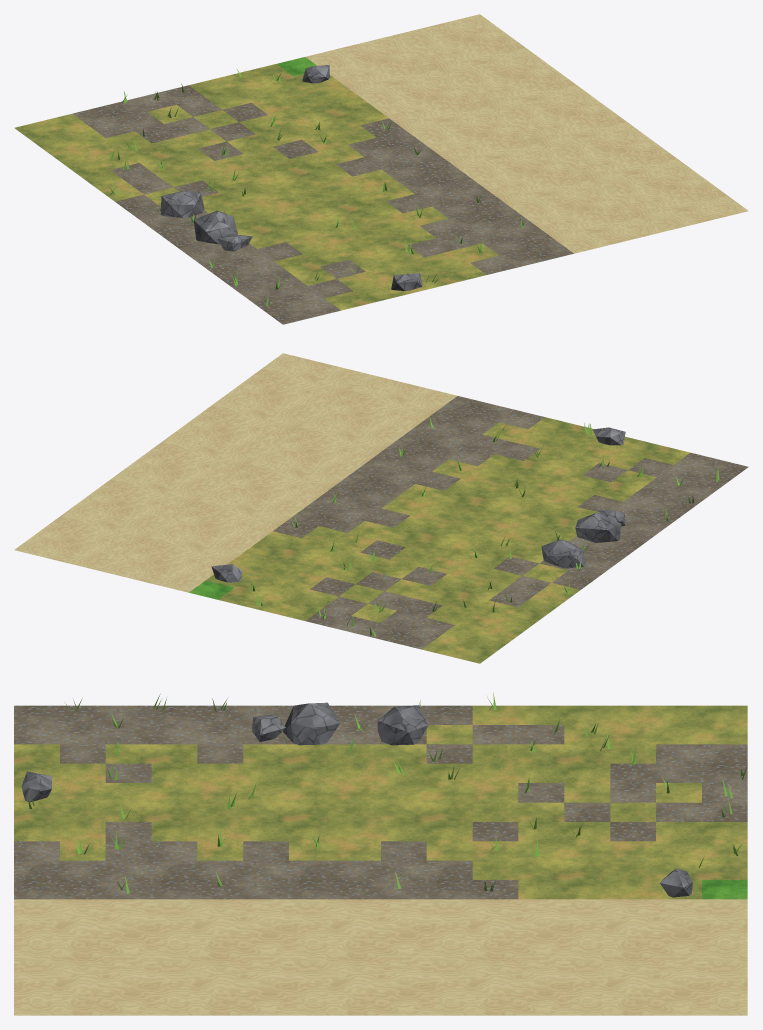
Rendered from chunk_11_17.glb.
The picture shows the model from 3 angles, top to bottom: view 1: azimuth 30°, elevation 25°; view 2: azimuth 150°, elevation 25°; view 3: azimuth 270°, elevation 25°; orthographic projection. The views are drawn at different scales.
Visible parts, largest first — view 1: chunk_11_17; view 2: chunk_11_17; view 3: chunk_11_17.
Boxes of the visible parts, bbox=[...] form: chunk_11_17: bbox=[14, 14, 748, 324]; chunk_11_17: bbox=[14, 353, 748, 663]; chunk_11_17: bbox=[14, 692, 747, 1015].
Bounding box in the file's own units: 16 × 1.21 × 16.03.
6 materials, 5 textured.
